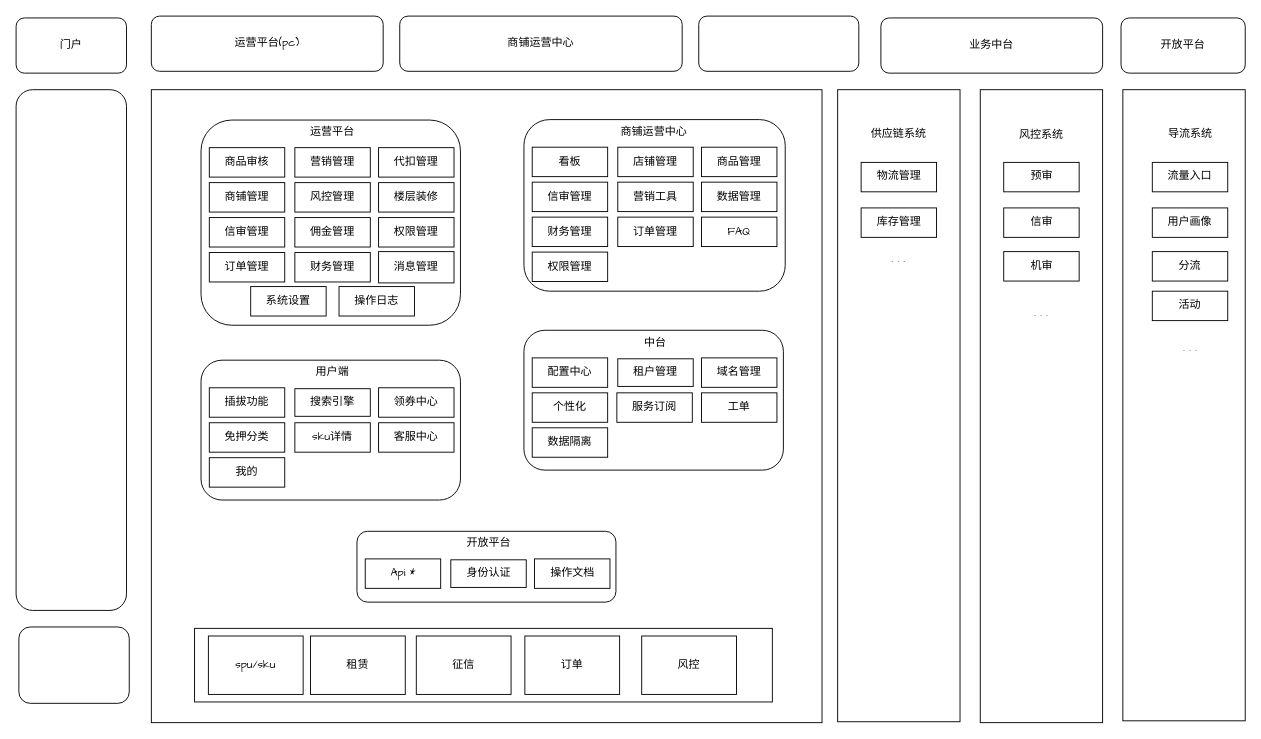
This 1261x739 diagram has some shape labels left out. The centre of each missing label's shape, as x and y in pixels:
"业务层" belongs at (70,349).
"基础数据层" belongs at (73,664).
"用户端(小程序)" belongs at (778,43).
